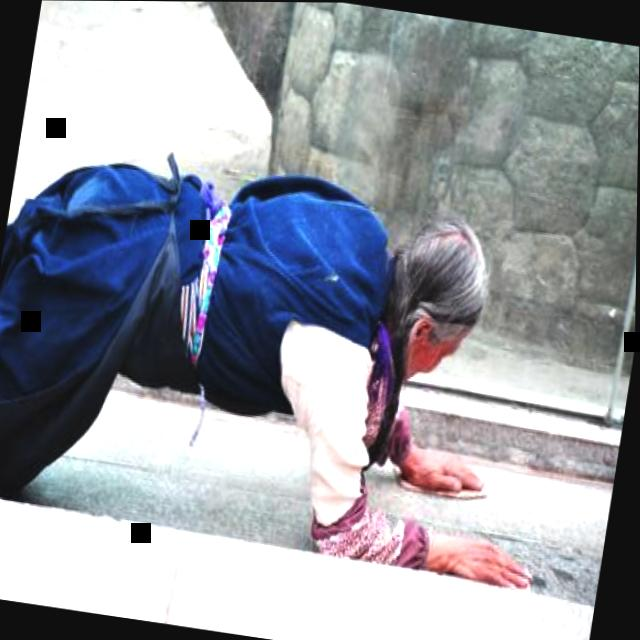Fall-Detected: (0, 133, 590, 583)
